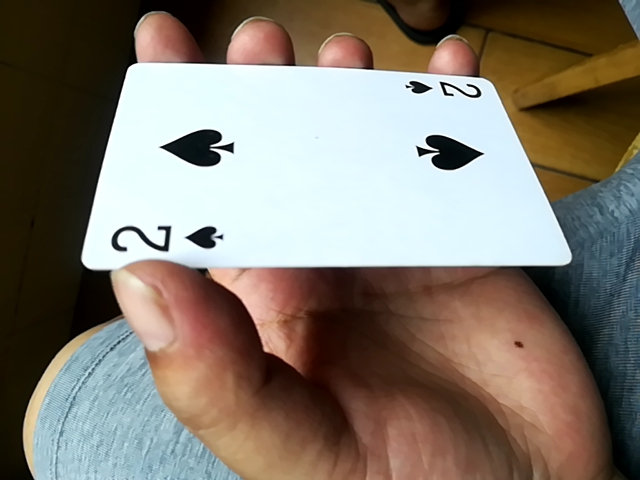ht 2: (83, 63, 573, 274)
